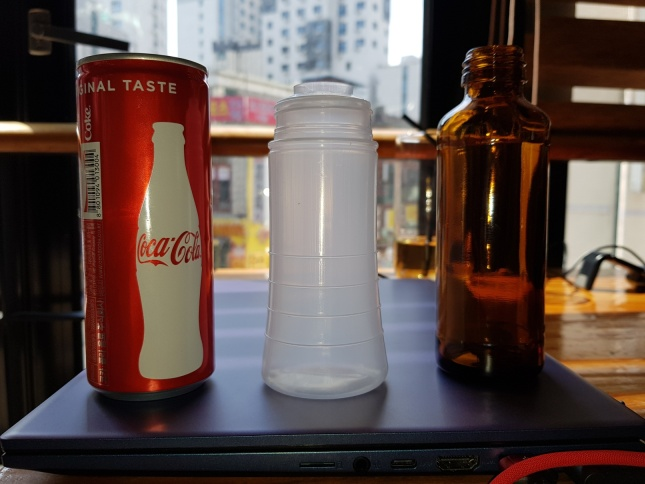Can: (71, 49, 219, 402)
Glass: (430, 43, 555, 392)
Plastic: (255, 77, 392, 404)
